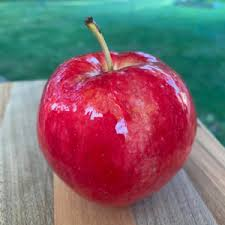apple: (36, 15, 199, 211)
